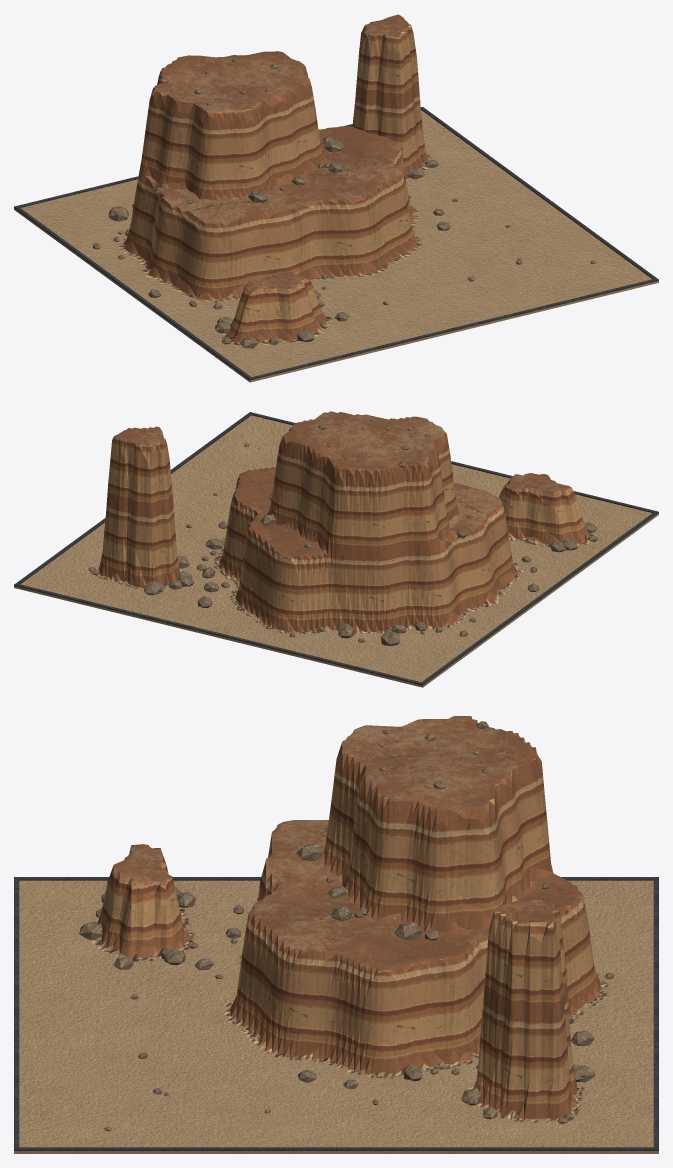
The model's file is Cliff01.fbx.
3 renders of one model, top to bottom at view 1: azimuth 30°, elevation 25°; view 2: azimuth 150°, elevation 25°; view 3: azimuth 270°, elevation 25°, orthographic. The views are drawn at different scales.
Parts seen in each view (by area): view 1: SandCliffs_Ground, SandCliffs_CliffFace, SandCliffs_GroundTrim, SandCliffs_Rock, SandCliffs_PadSide; view 2: SandCliffs_CliffFace, SandCliffs_Ground, SandCliffs_GroundTrim, SandCliffs_Rock, SandCliffs_PadSide; view 3: SandCliffs_Ground, SandCliffs_CliffFace, SandCliffs_GroundTrim, SandCliffs_Rock, SandCliffs_PadSide.
Part boxes in pixels (x1,y1,x2,y2): SandCliffs_Ground: (21,14,651,376); SandCliffs_CliffFace: (123,16,428,342); SandCliffs_GroundTrim: (14,107,658,380); SandCliffs_Rock: (93,58,595,348); SandCliffs_PadSide: (14,208,658,382); SandCliffs_CliffFace: (99,420,589,632); SandCliffs_Ground: (20,411,651,682); SandCliffs_GroundTrim: (14,412,658,685); SandCliffs_Rock: (88,418,598,646); SandCliffs_PadSide: (14,513,658,687); SandCliffs_Ground: (19,716,653,1147); SandCliffs_CliffFace: (97,717,600,1118); SandCliffs_GroundTrim: (14,877,658,1150); SandCliffs_Rock: (79,721,613,1131); SandCliffs_PadSide: (14,1151,658,1153).
Size of the model in its own units: 12 by 4.56 by 12.
Materials: 5 (5 with a texture image).
